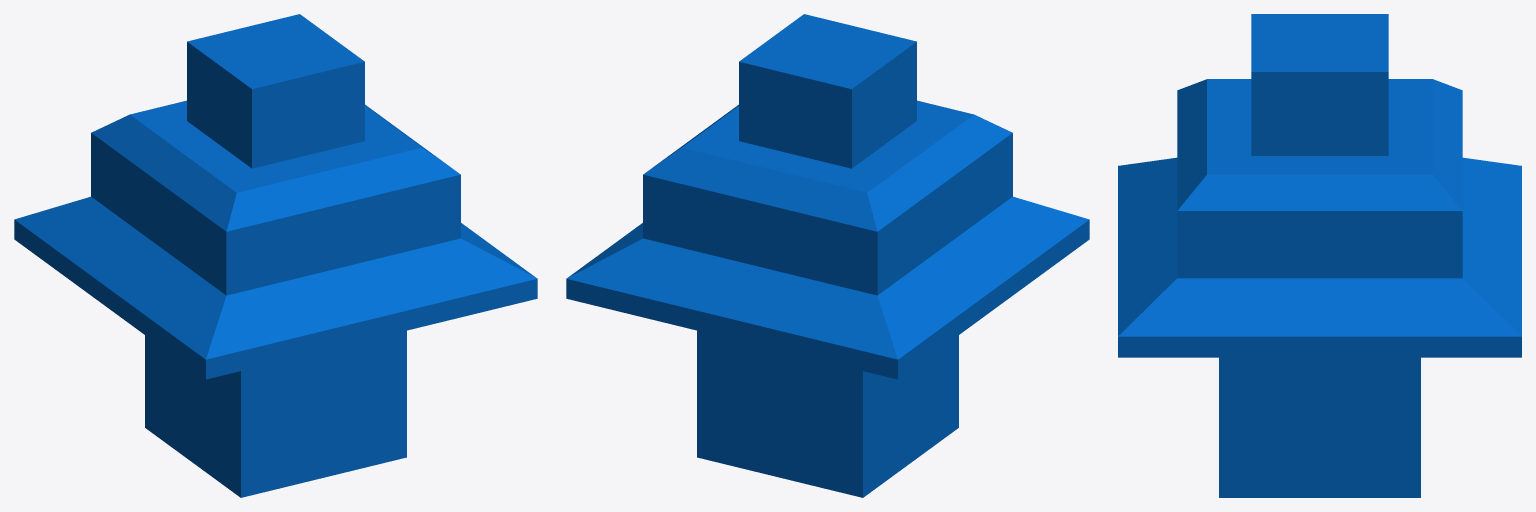
The model's file is debug.dae.
The picture shows the model from 3 angles, left to right: view 1: azimuth 30°, elevation 25°; view 2: azimuth 150°, elevation 25°; view 3: azimuth 270°, elevation 25°; orthographic projection. The views are drawn at different scales.
Parts seen in each view (by area): view 1: Cube_002; view 2: Cube_002; view 3: Cube_002.
Boxes of the visible parts, bbox=[...] form: Cube_002: bbox=[14, 14, 537, 497]; Cube_002: bbox=[566, 14, 1089, 497]; Cube_002: bbox=[1118, 14, 1521, 497].
Bounding box in the file's own units: 2 × 2 × 2.25.
